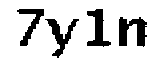1: (82, 5, 113, 51)
7: (11, 7, 47, 49)
n: (117, 15, 150, 52)
y: (45, 16, 80, 59)
